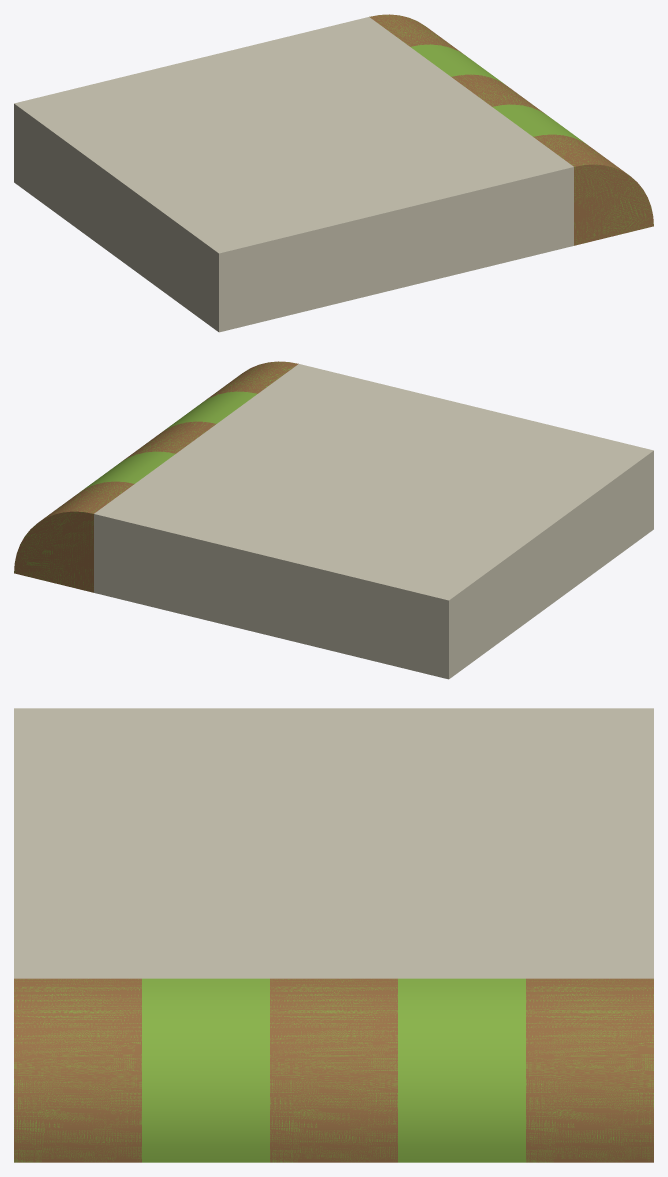
File: building_009.dae
3 renders of one model, top to bottom at view 1: azimuth 30°, elevation 25°; view 2: azimuth 150°, elevation 25°; view 3: azimuth 270°, elevation 25°, orthographic. The views are drawn at different scales.
Parts seen in each view (by area): view 1: building_009; view 2: building_009; view 3: building_009.
Part boxes in pixels (x1,y1,x2,y2): building_009: [14, 14, 653, 332]; building_009: [14, 361, 653, 679]; building_009: [14, 708, 653, 1162].
Size of the model in its own units: 1.22 by 0.2125 by 1.
